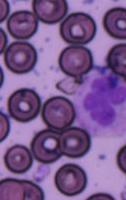N: (72, 67, 126, 137)
